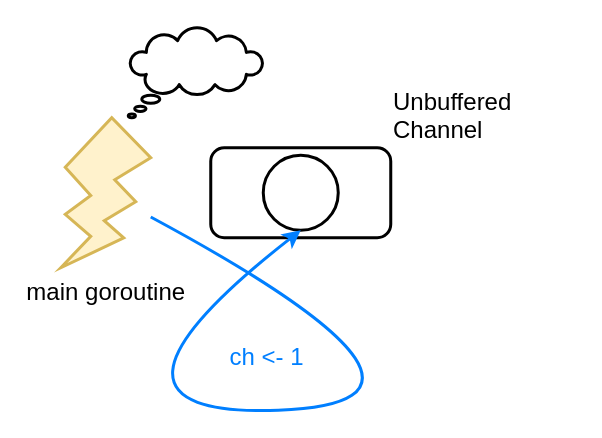
The diagram is 602 pixels wide and 438 high, and some of its shapes have lost their labels. The shapes that lost their labels are listed below. From the top down, each one's centre as x and y in pixels, then its label:
point 195,72: zzz
point 300,192: data
